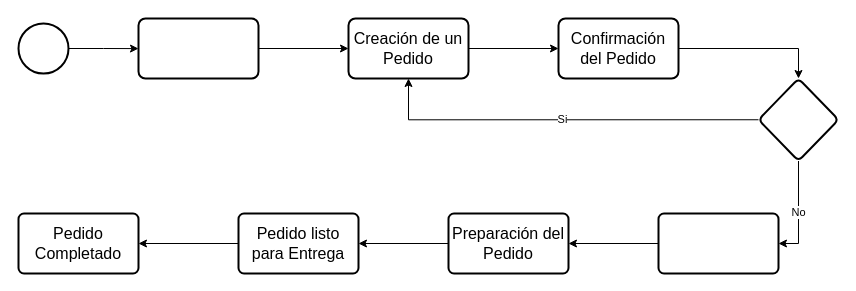
This 856x291 diagram has some shape labels left out. Each missing label, with the box of its shape:
Autenticación en el Sistema: (137, 17, 259, 79)
Realización del Pago: (657, 212, 779, 274)
¿Pedido fue cancelado?: (757, 77, 839, 162)
